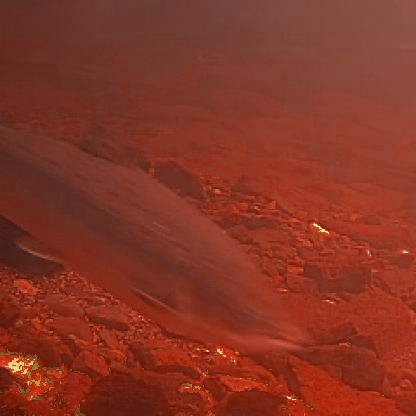salmon: (0, 119, 320, 361)
